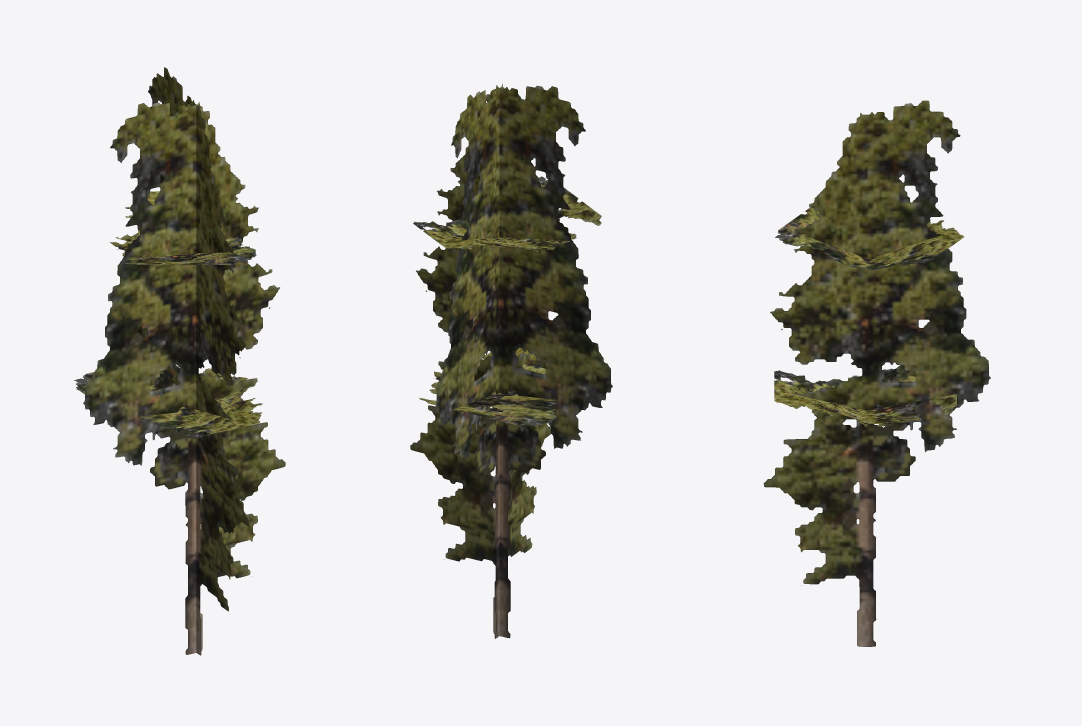
The model's file is tree1.fbx.
3 views of the same model, side by side, from view 1: azimuth 30°, elevation 25°; view 2: azimuth 150°, elevation 25°; view 3: azimuth 270°, elevation 25° (orthographic). The views are drawn at different scales.
Visible parts, largest first — view 1: tree1; view 2: tree1; view 3: tree1.
Part boxes in pixels (left/top/right/bottom): tree1: left=74, top=67, right=285, bottom=655; tree1: left=410, top=83, right=612, bottom=638; tree1: left=763, top=100, right=990, bottom=646.
Size of the model in its own units: 1309 by 2207 by 1309.
